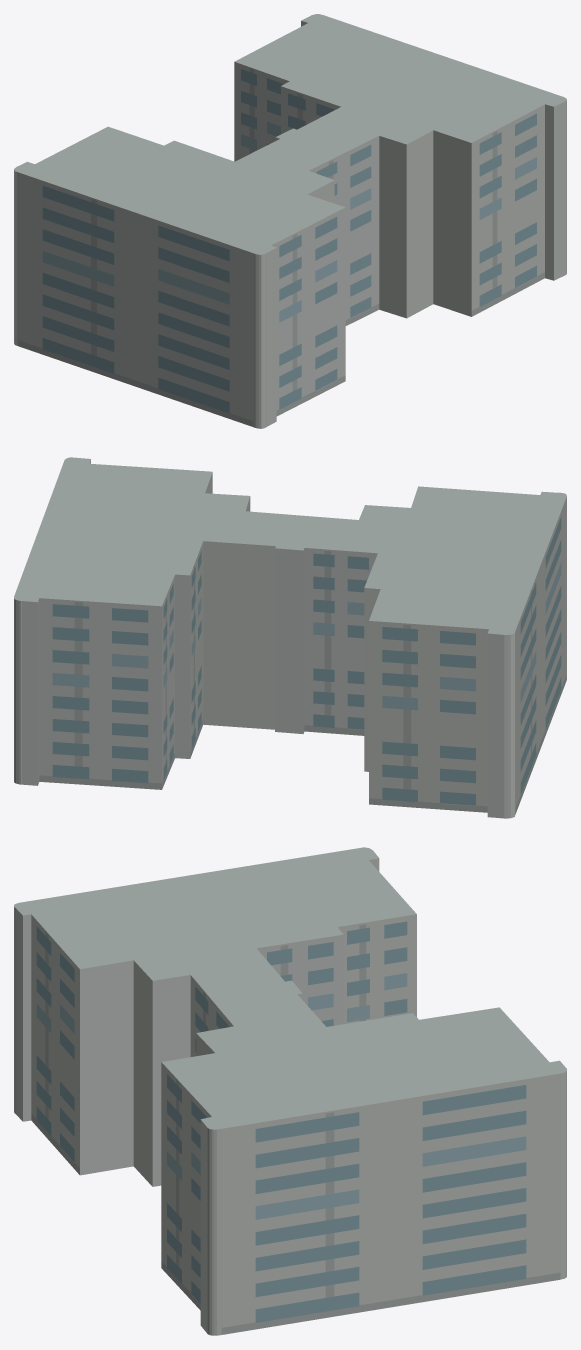
File: survey-upis-33046235.glb
The picture shows the model from 3 angles, top to bottom: view 1: azimuth 30°, elevation 25°; view 2: azimuth 150°, elevation 25°; view 3: azimuth 270°, elevation 25°; orthographic projection. The views are drawn at different scales.
Parts seen in each view (by area): view 1: survey-upis-33046235.tmp; view 2: survey-upis-33046235.tmp; view 3: survey-upis-33046235.tmp.
Boxes of the visible parts, box(x1,y1,x2,y2) form: survey-upis-33046235.tmp: box(14, 14, 566, 428); survey-upis-33046235.tmp: box(14, 457, 566, 818); survey-upis-33046235.tmp: box(14, 847, 566, 1335).
Size of the model in its own units: 88.1 by 30 by 72.93.
